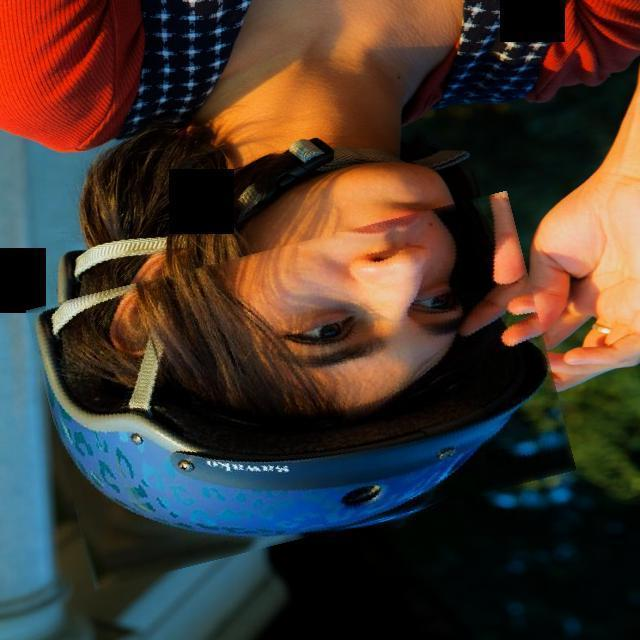helmet: (40, 218, 562, 562)
